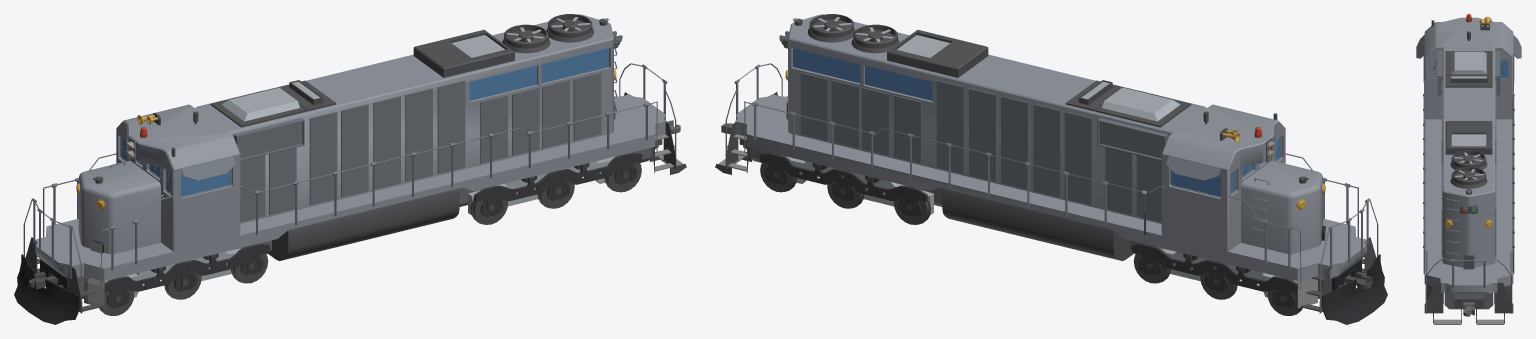
Rendered from train2.fbx.
3 renders of one model, left to right at view 1: azimuth 30°, elevation 25°; view 2: azimuth 150°, elevation 25°; view 3: azimuth 270°, elevation 25°, orthographic. The views are drawn at different scales.
Visible parts, largest first — view 1: test01; view 2: test01; view 3: test01.
Boxes of the visible parts, box(x1,y1,x2,y2) form: test01: box(14, 14, 686, 324); test01: box(715, 14, 1387, 324); test01: box(1416, 14, 1521, 324).
Bounding box in the file's own units: 3385 × 808 × 619.
Materials: 1 (1 with a texture image).
